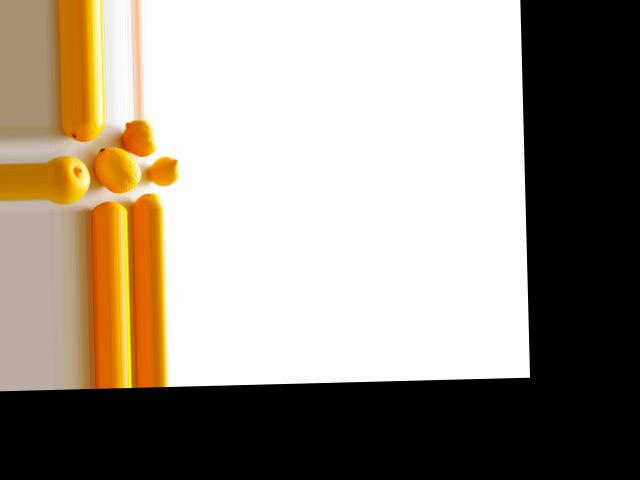lemon: (67, 119, 111, 146)
